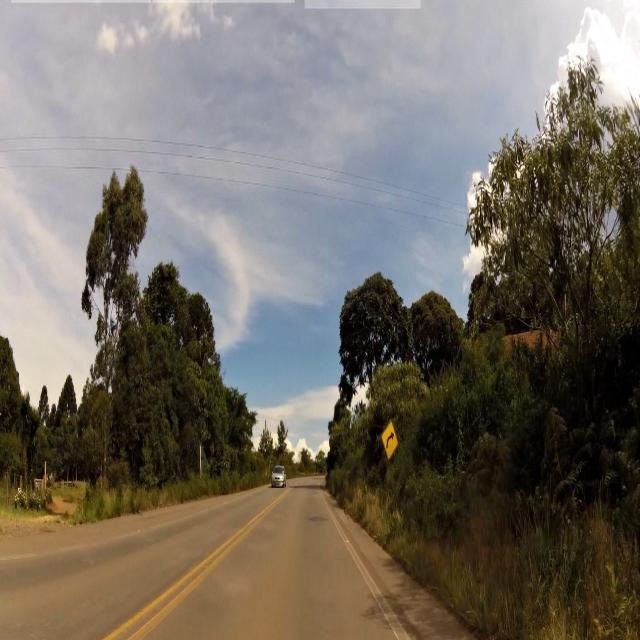A-2b: (381, 418, 400, 457)
